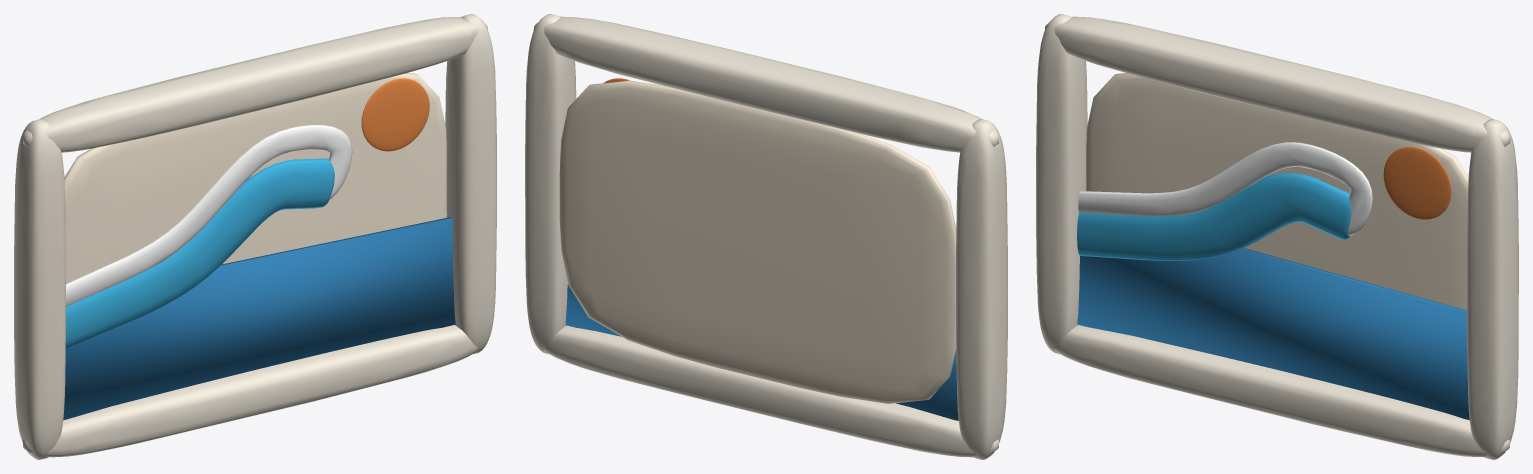
The model's file is deco_cuadro_ola.glb.
The picture shows the model from 3 angles, left to right: view 1: azimuth 30°, elevation 25°; view 2: azimuth 150°, elevation 25°; view 3: azimuth 330°, elevation 25°; orthographic projection.
Visible parts, largest first — view 1: mar ola.001, lienzo.014, marco horizontal.029, marco horizontal.028, marco vertical.028, marco vertical.029, ola.001, cresta.001, sol ola.001; view 2: lienzo.014, marco horizontal.029, marco horizontal.028, marco vertical.028, marco vertical.029, mar ola.001; view 3: mar ola.001, lienzo.014, marco horizontal.029, marco horizontal.028, marco vertical.029, marco vertical.028, ola.001, cresta.001, sol ola.001.
Part boxes in pixels (<box>): mar ola.001: <box>63,217,455,420</box>; lienzo.014: <box>64,73,446,283</box>; marco horizontal.029: <box>23,16,487,152</box>; marco horizontal.028: <box>23,325,478,457</box>; marco vertical.028: <box>14,119,65,459</box>; marco vertical.029: <box>445,14,496,354</box>; ola.001: <box>65,158,334,348</box>; cresta.001: <box>66,125,352,306</box>; sol ola.001: <box>361,78,429,151</box>; lienzo.014: <box>559,80,956,403</box>; marco horizontal.029: <box>533,16,998,152</box>; marco horizontal.028: <box>543,325,998,457</box>; marco vertical.028: <box>956,119,1007,459</box>; marco vertical.029: <box>525,14,576,354</box>; mar ola.001: <box>565,284,958,420</box>; mar ola.001: <box>1077,248,1469,420</box>; lienzo.014: <box>1086,73,1468,310</box>; marco horizontal.029: <box>1045,16,1510,152</box>; marco horizontal.028: <box>1054,325,1510,457</box>; marco vertical.029: <box>1467,119,1518,459</box>; marco vertical.028: <box>1036,14,1087,354</box>; ola.001: <box>1077,173,1351,260</box>; cresta.001: <box>1078,142,1372,235</box>; sol ola.001: <box>1383,146,1451,219</box>.
Bounding box in the file's own units: 0.6698 × 0.4696 × 0.0599.
